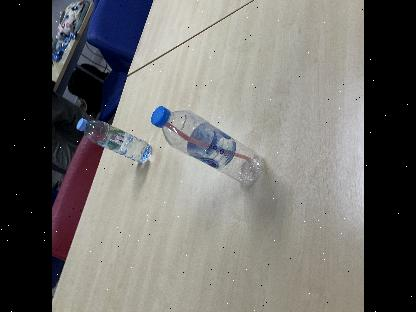Plastic Bottle: (149, 106, 265, 184), (76, 117, 152, 163)
